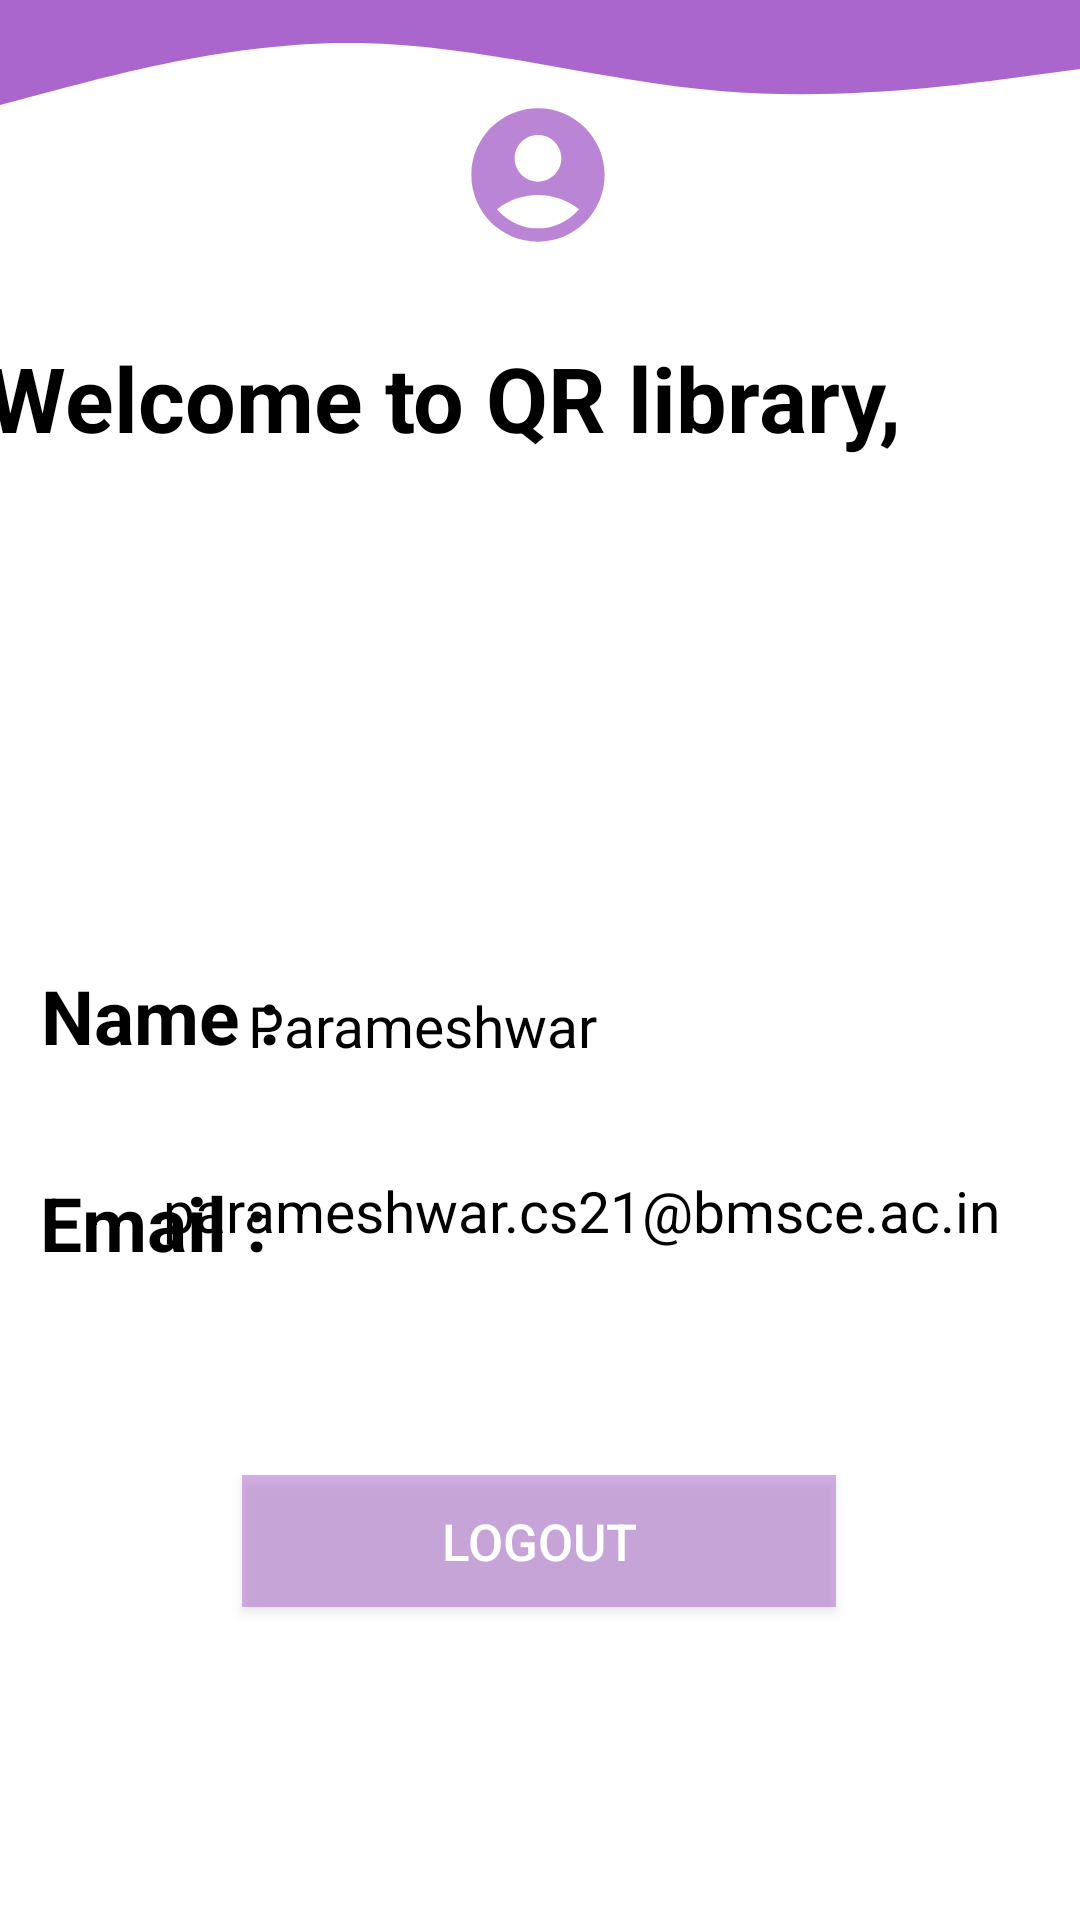

Screen size 1080×1920. Icon name, then its center in pixels as (x,y):
acc: (538,175)
